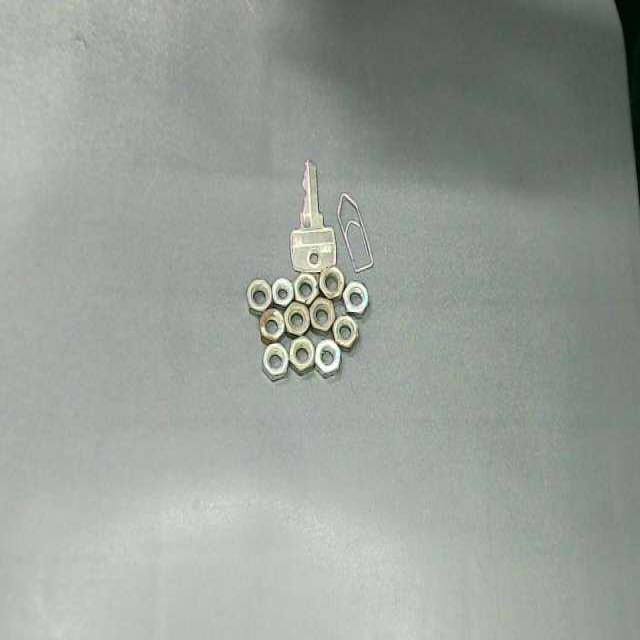Porca: (262, 343, 288, 381), (289, 336, 314, 374), (315, 339, 340, 377), (343, 282, 368, 317), (333, 315, 358, 350), (310, 298, 335, 333), (259, 308, 284, 343), (319, 267, 344, 299), (284, 303, 309, 335), (247, 279, 270, 313), (294, 274, 318, 306), (272, 278, 293, 309)
